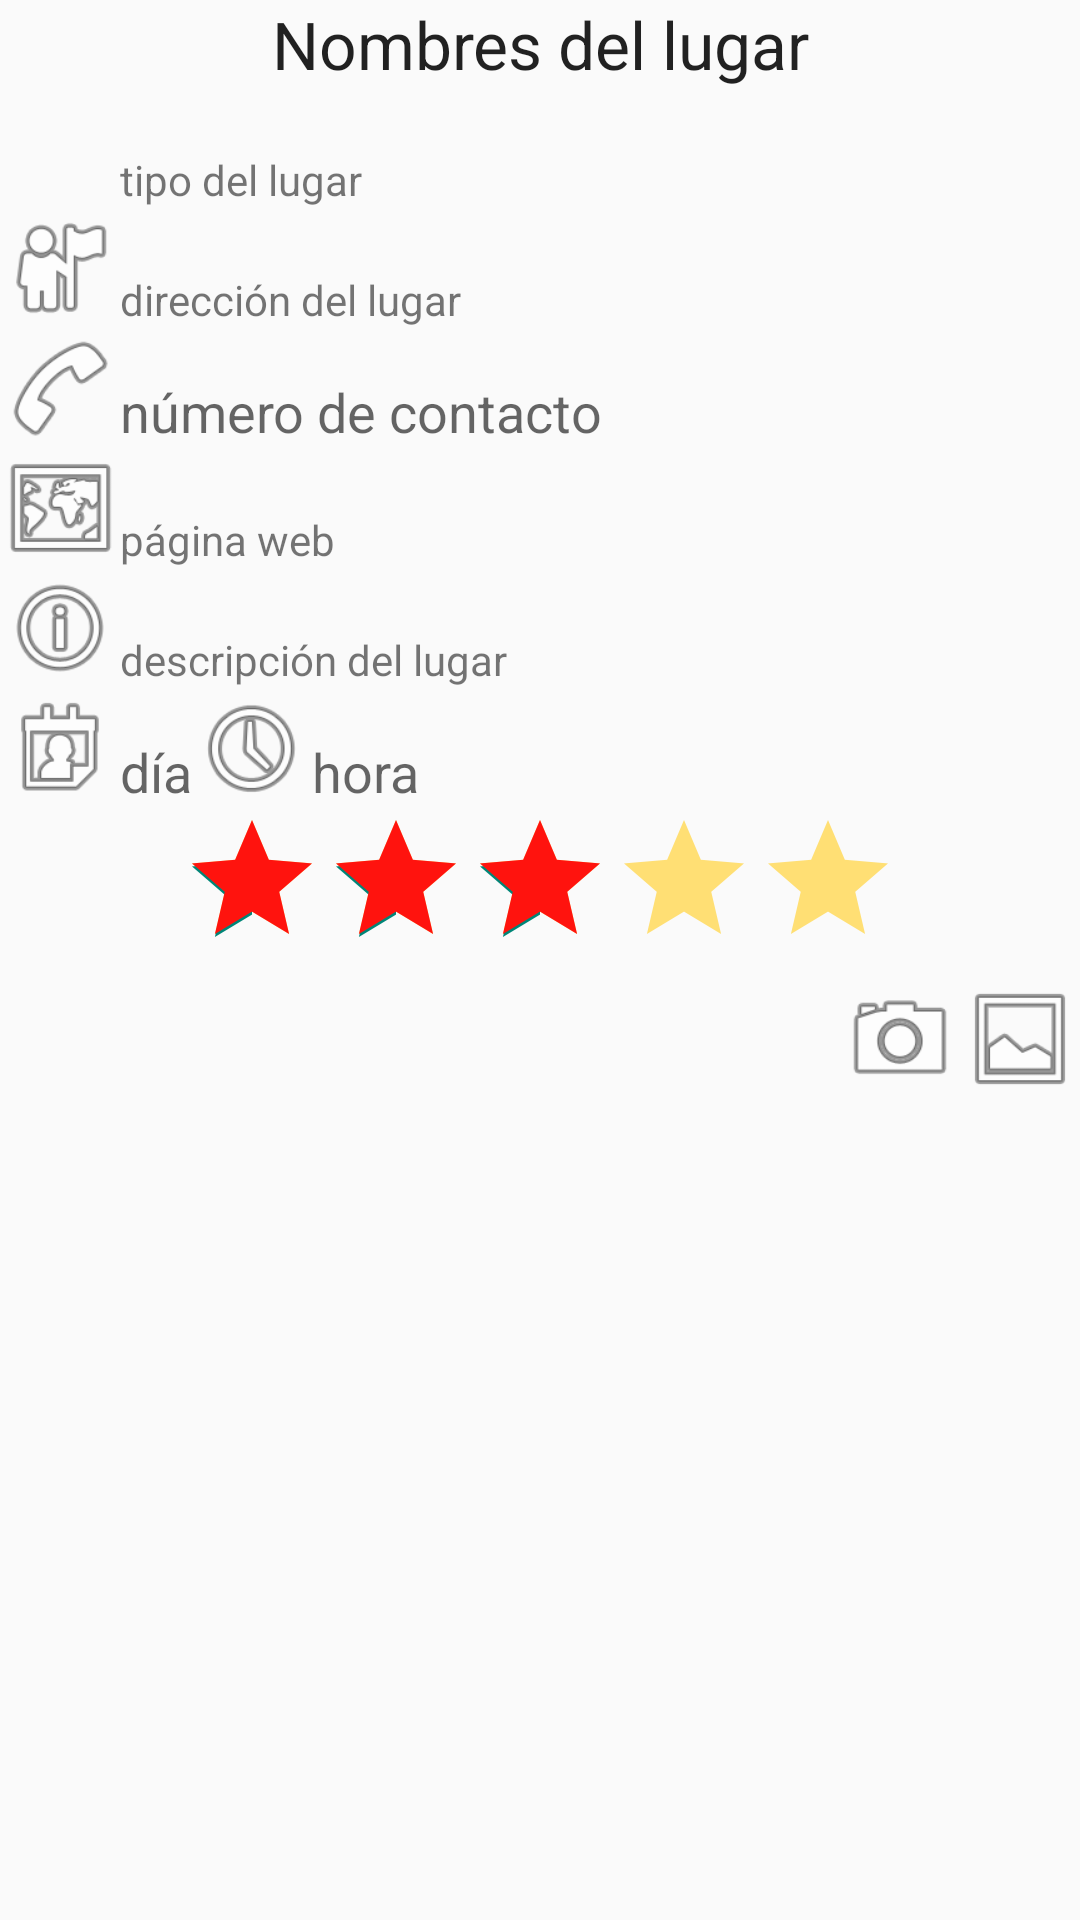

Icons on this 1080x1920 Android screen, each with the point to tap as [x,y]:
Ingrese una descripción: [60,628]
Teléfono del lugar: [61,389]
